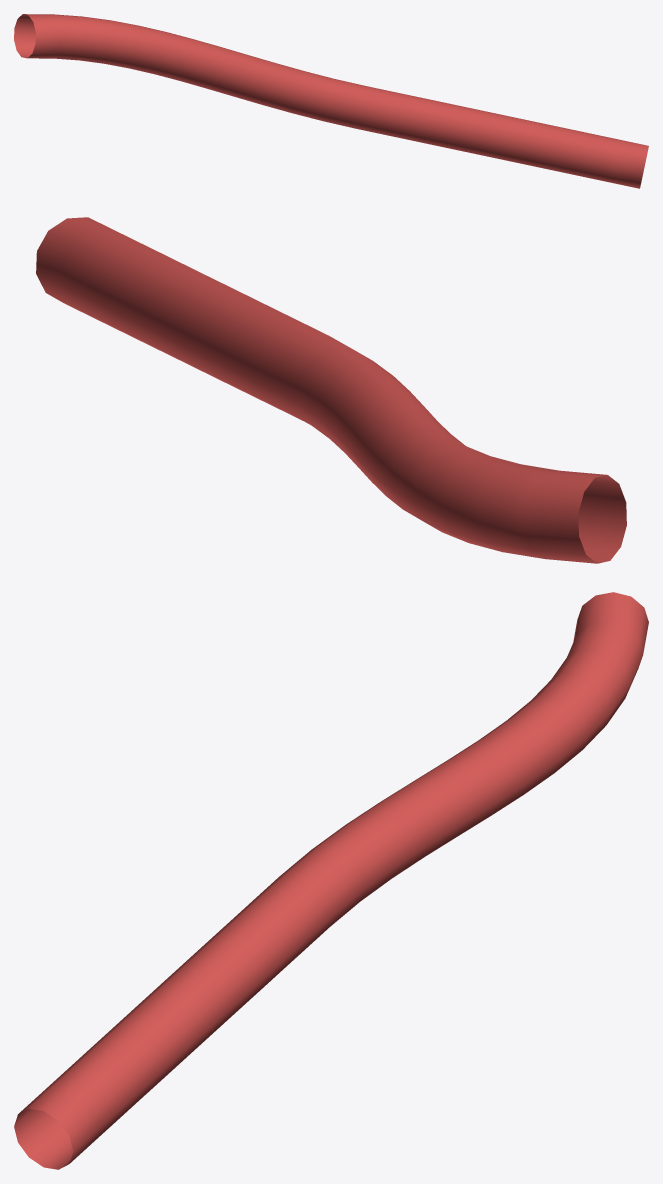
The picture shows the model from 3 angles, top to bottom: view 1: azimuth 30°, elevation 25°; view 2: azimuth 150°, elevation 25°; view 3: azimuth 270°, elevation 25°; orthographic projection. The views are drawn at different scales.
Visible parts, largest first — view 1: 左侧筛后动脉; view 2: 左侧筛后动脉; view 3: 左侧筛后动脉.
Part boxes in pixels (x1,y1,x2,y2): 左侧筛后动脉: (14,14,648,188); 左侧筛后动脉: (36,217,626,563); 左侧筛后动脉: (14,592,648,1169).
Bounding box in the file's own units: 0.0121 × 0.00376 × 0.00912.
